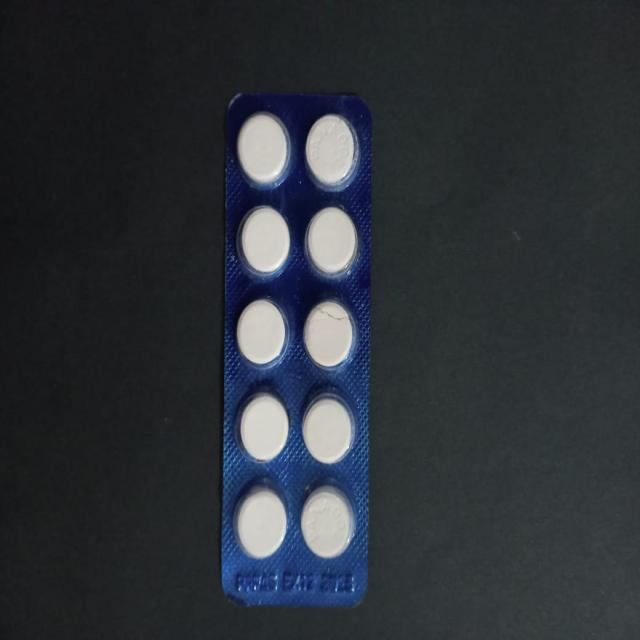defect: (302, 298, 356, 371)
